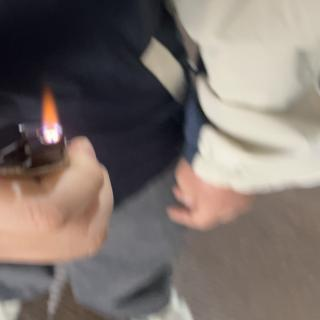fire: (38, 91, 66, 132)
